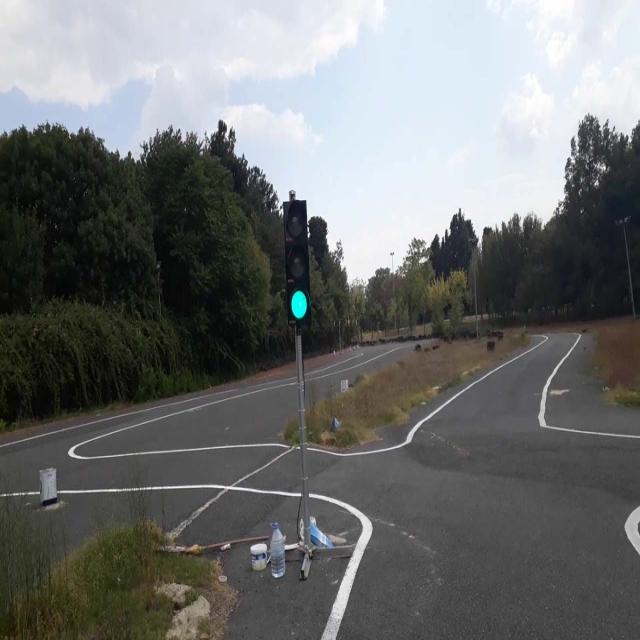yesil: (282, 201, 310, 323)
